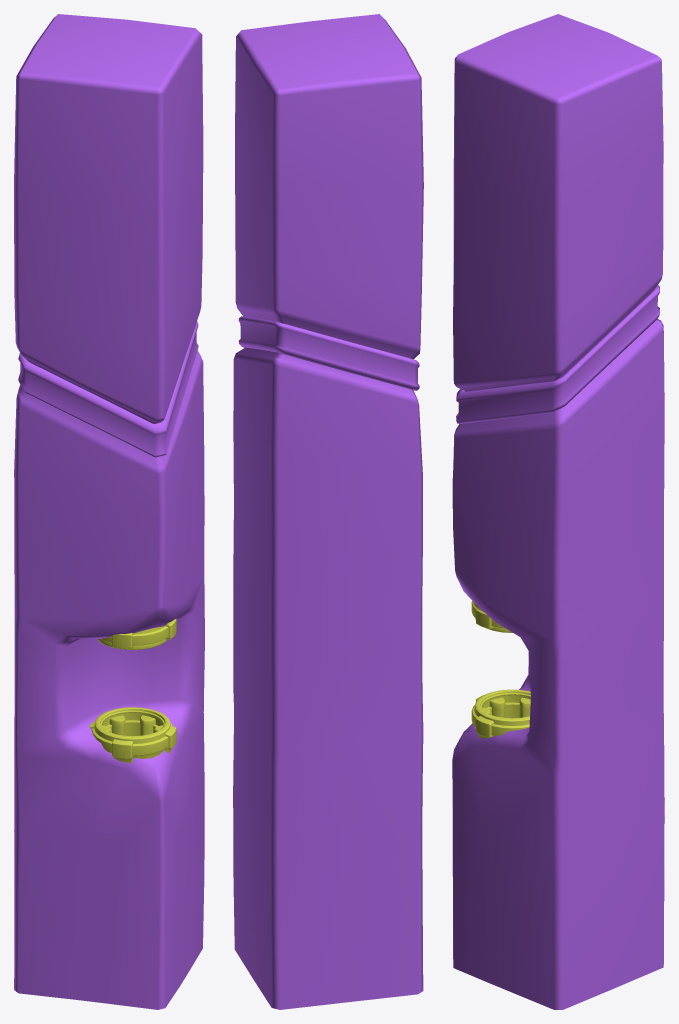
Rendered from env_Chamber_RunePillar_04.FBX.
3 renders of one model, left to right at view 1: azimuth 30°, elevation 25°; view 2: azimuth 150°, elevation 25°; view 3: azimuth 270°, elevation 25°, orthographic.
Parts seen in each view (by area): view 1: env_Chamber_RunePillar_04; view 2: env_Chamber_RunePillar_04; view 3: env_Chamber_RunePillar_04.
Boxes of the visible parts, x1,y1,x2,y2 form: env_Chamber_RunePillar_04: (14,14,204,1009); env_Chamber_RunePillar_04: (233,14,423,1009); env_Chamber_RunePillar_04: (452,14,664,1009).
Bounding box in the file's own units: 202 × 950 × 200.
